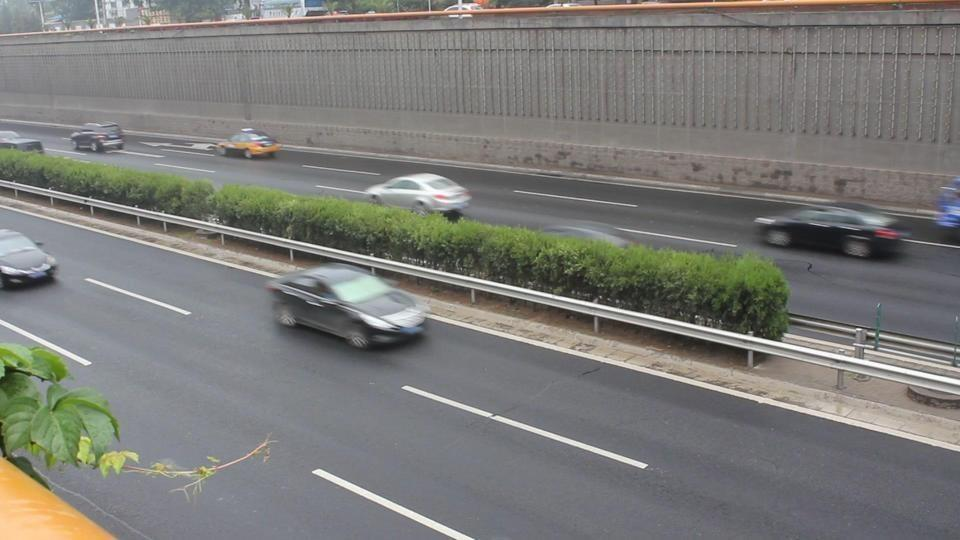car: (266, 265, 429, 350), (752, 204, 913, 259), (364, 173, 473, 218), (0, 228, 59, 289), (212, 128, 282, 160), (933, 175, 960, 241), (70, 122, 125, 153), (0, 130, 44, 154)
